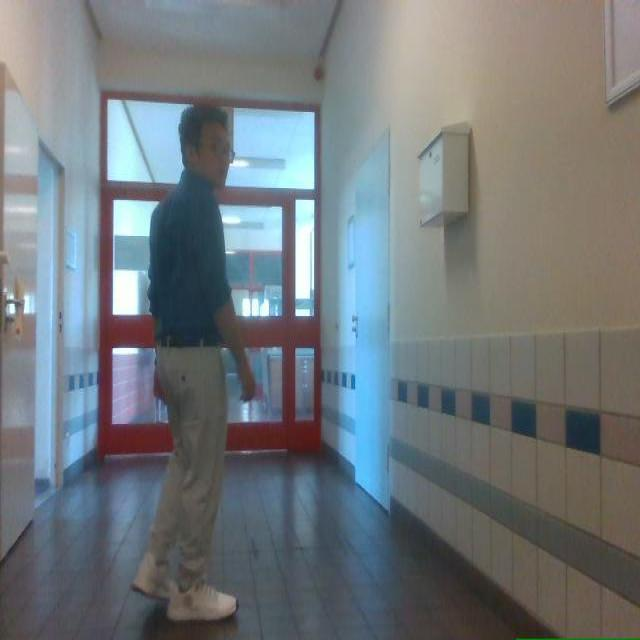humans: (132, 104, 255, 620)
